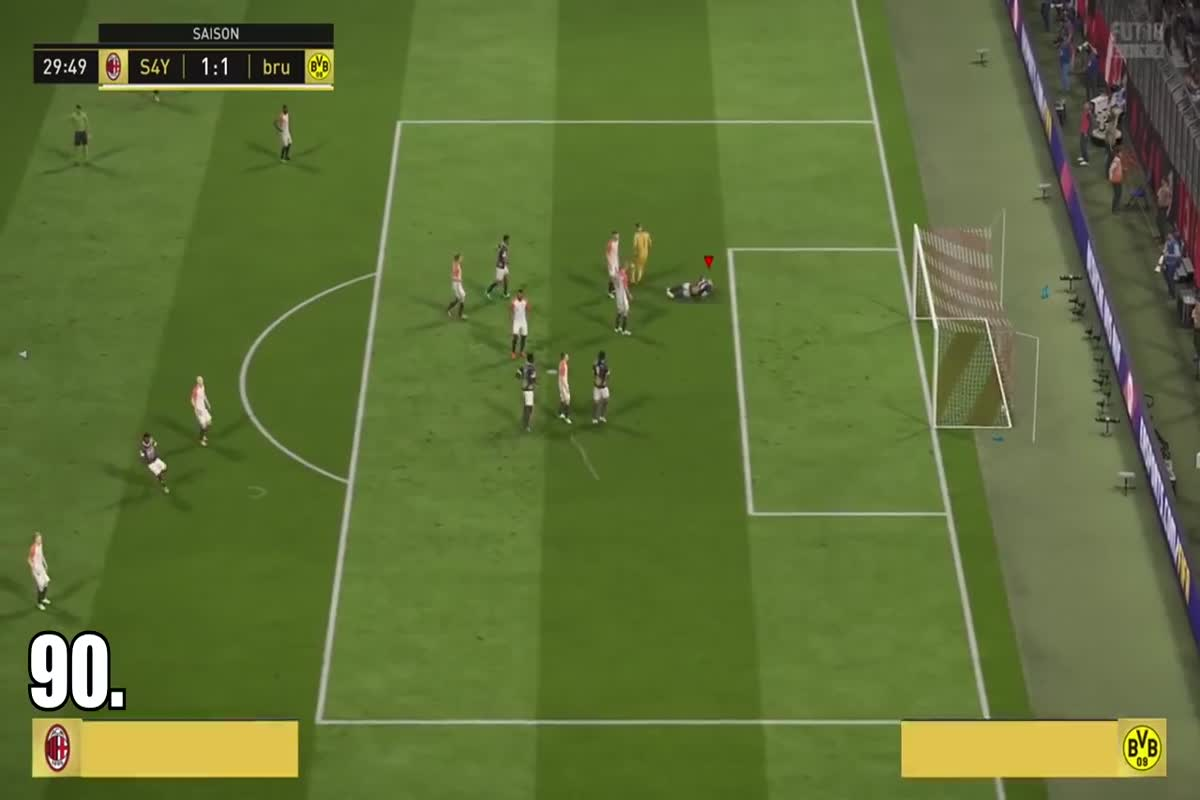ball: (997, 396, 1013, 417)
